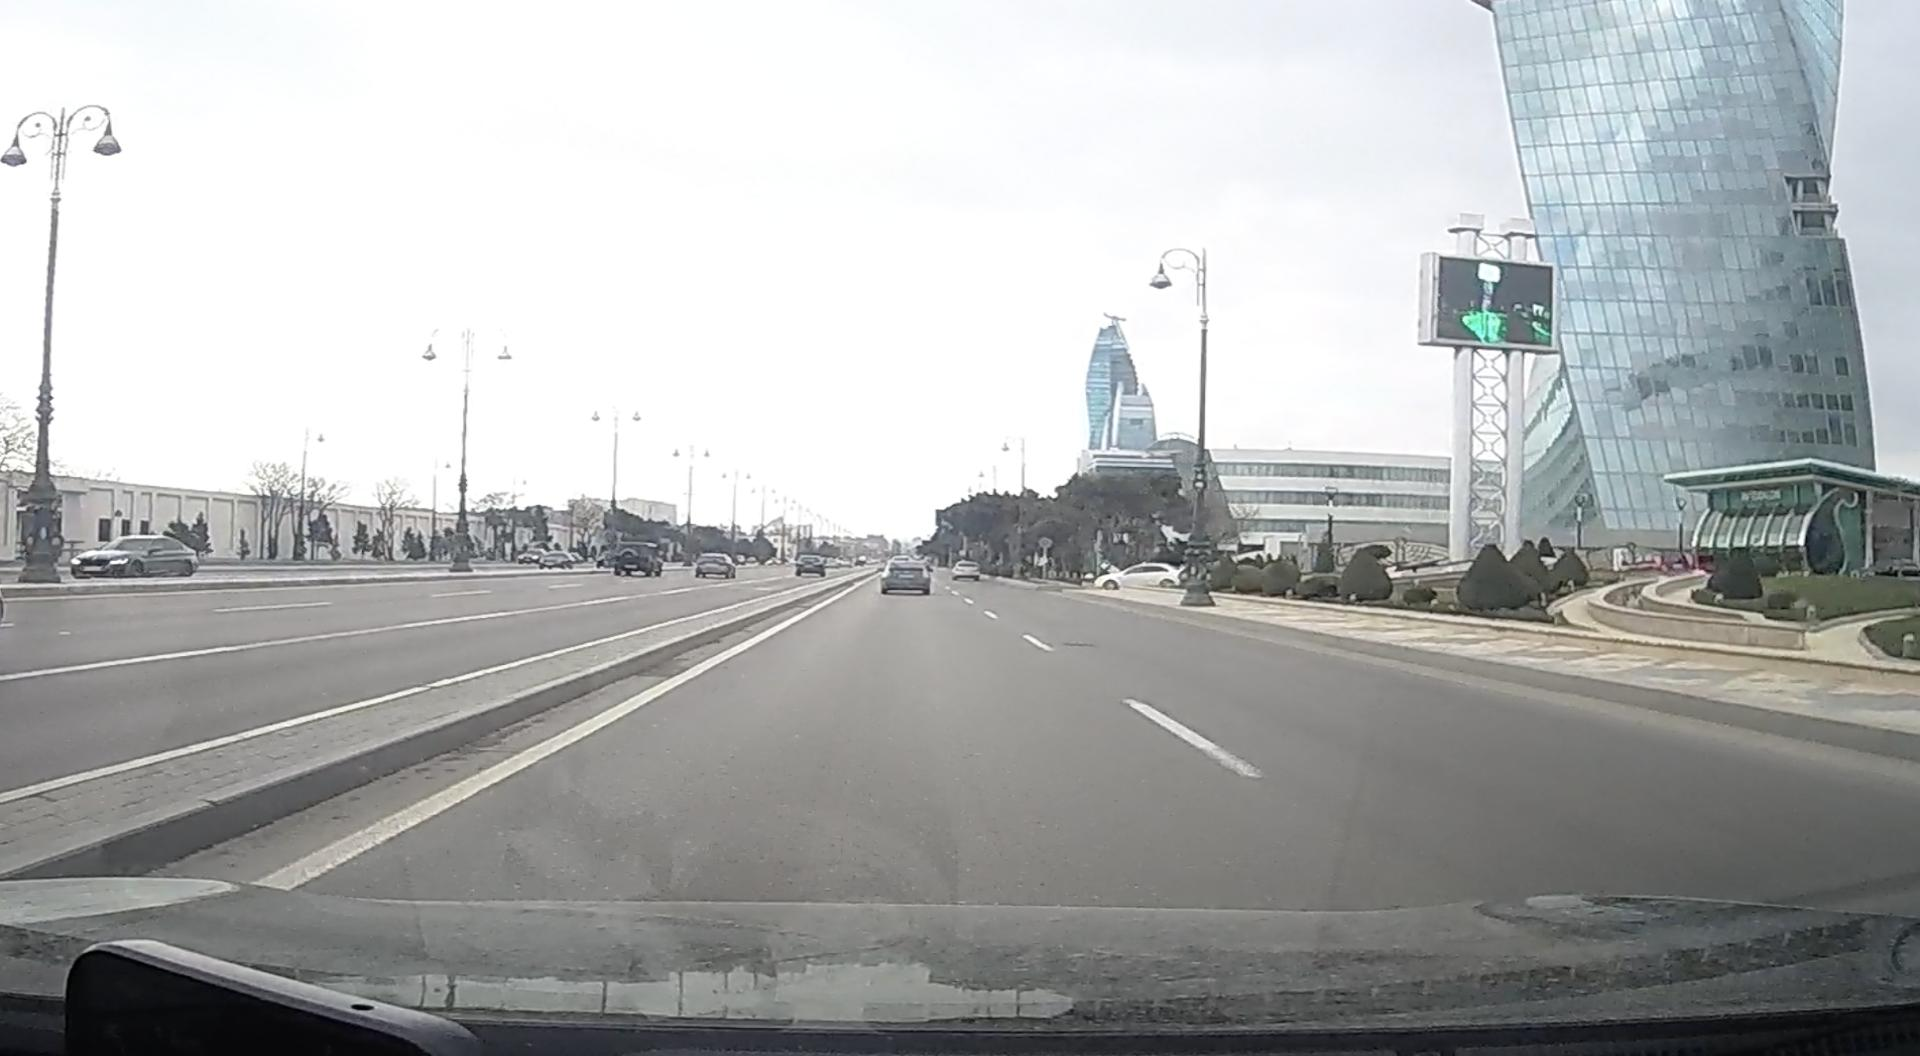banner: (1420, 251, 1565, 355)
